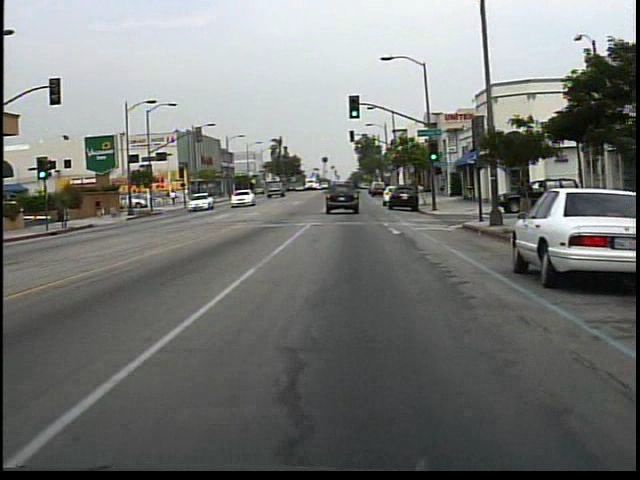person: (509, 171, 537, 231), (93, 192, 112, 221), (170, 187, 180, 208)
